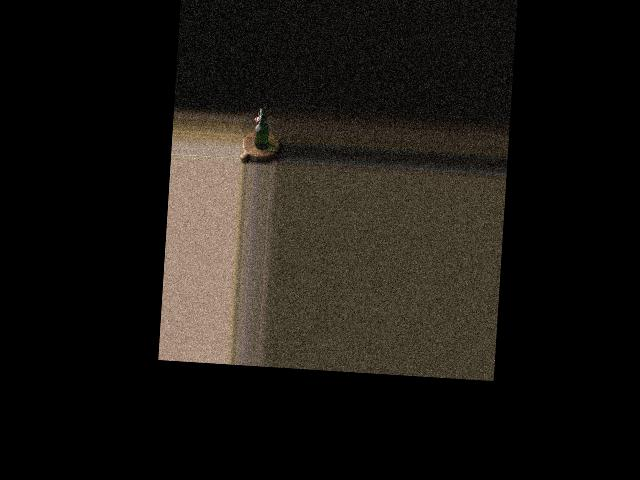beer: (253, 106, 269, 148)
